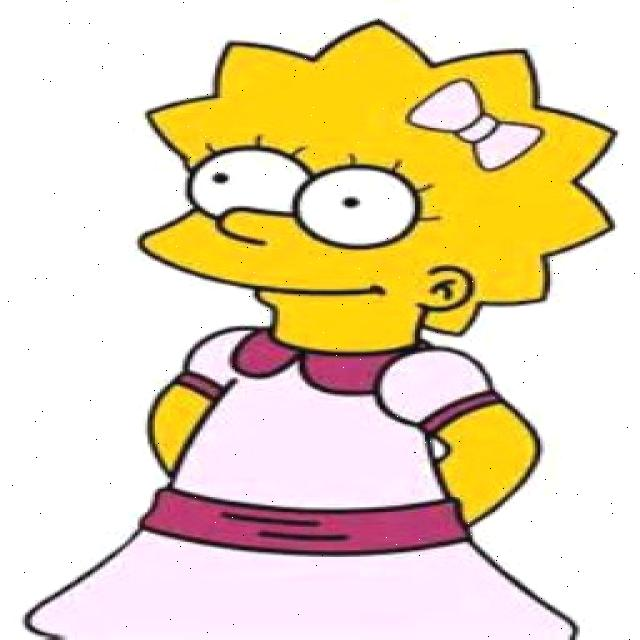Lisa Simpson: (132, 16, 624, 362)
